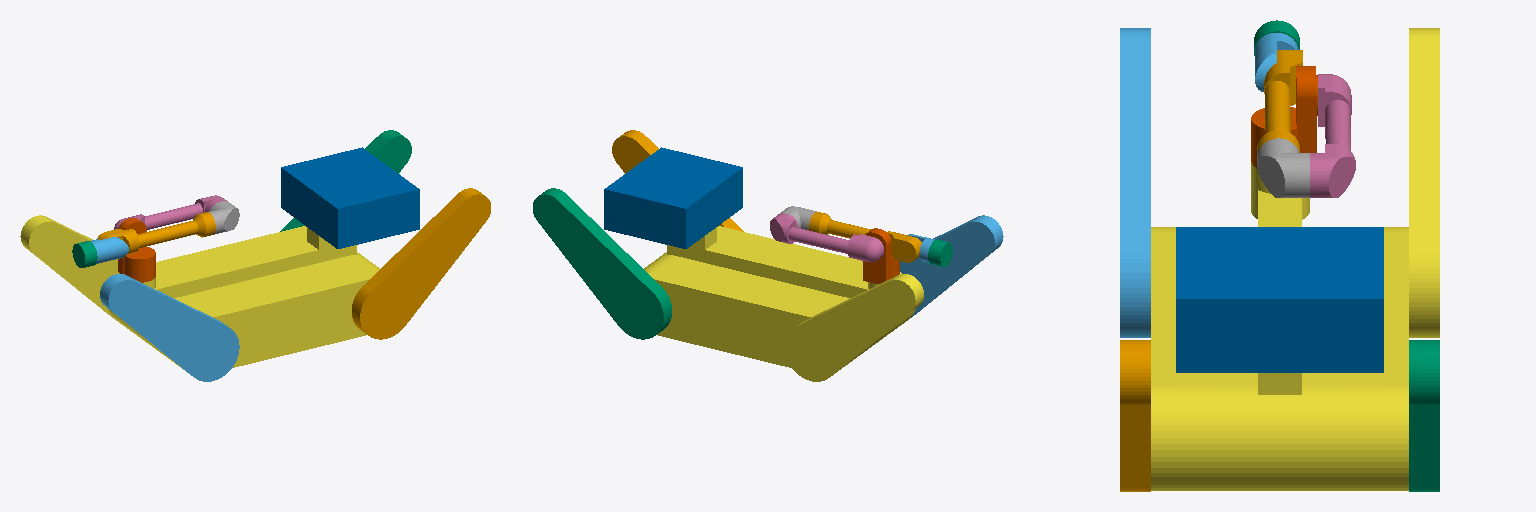
URDF robot description (rove_full_low_res):
<?xml version='1.0' encoding='utf-8'?>
<robot name="rove_full_low_res">
    <link name="FlipperBL">
        <inertial>
            <origin xyz="0.12159582122141516 0.10168343253448005 0.025000000000000005" rpy="0.0 -0.0 0.0" />
            <mass value="29.29052518083931" />
            <inertia ixx="0.2910866181633136" iyy="0.3900292627096684" izz="0.6689114953809776" ixy="-0.27678423112892325" iyz="2.7755575615628914e-17" ixz="0.0" />
        </inertial>
        <visual name="FlipperBL_visual">
            <origin xyz="-0.2968589956864575 -0.06317629882966745 0.0" rpy="-1.5707963267948966 -0.0 -0.08726646259971632" />
            <geometry>
                <mesh filename="package://rove_description/meshes/FlipperBL.stl" scale="0.001 0.001 0.001" />
            </geometry>
        </visual>
        <collision name="FlipperBL_collision">
            <origin xyz="-0.2968589956864575 -0.06317629882966745 0.0" rpy="-1.5707963267948966 -0.0 -0.08726646259971632" />
            <geometry>
                <mesh filename="package://rove_description/meshes/FlipperBL.stl" scale="0.001 0.001 0.001" />
            </geometry>
        </collision>
    </link>
    <link name="FlipperFL">
        <inertial>
            <origin xyz="-0.12125352408730372 0.10209137142127311 0.025" rpy="0.0 -0.0 0.0" />
            <mass value="29.2905251808393" />
            <inertia ixx="0.29237999451611363" iyy="0.38873588635686396" izz="0.6689114953809892" ixy="0.27701228827613233" iyz="2.7755575615628914e-17" ixz="0.0" />
        </inertial>
        <visual name="FlipperFL_visual">
            <origin xyz="0.3063762811858175 -0.0623436438703893 -8.881784197001253e-18" rpy="-1.5707963267948966 -0.0 0.08726646259971638" />
            <geometry>
                <mesh filename="package://rove_description/meshes/FlipperFL.stl" scale="0.001 0.001 0.001" />
            </geometry>
        </visual>
        <collision name="FlipperFL_collision">
            <origin xyz="0.3063762811858175 -0.0623436438703893 -8.881784197001253e-18" rpy="-1.5707963267948966 -0.0 0.08726646259971638" />
            <geometry>
                <mesh filename="package://rove_description/meshes/FlipperFL.stl" scale="0.001 0.001 0.001" />
            </geometry>
        </collision>
    </link>
    <link name="FlipperBR">
        <inertial>
            <origin xyz="0.1215958212214153 -0.10168343253448012 0.02500000000000007" rpy="0.0 -0.0 0.0" />
            <mass value="29.29052518083931" />
            <inertia ixx="0.2910866181633107" iyy="0.3900292627096622" izz="0.6689114953809678" ixy="0.2767842311289228" iyz="8.881784197001252e-16" ixz="0.0" />
        </inertial>
        <visual name="FlipperBR_visual">
            <origin xyz="-0.2968589956864576 0.06317629882966747 -0.418" rpy="1.5707963267948966 -0.0 0.08726646259971636" />
            <geometry>
                <mesh filename="package://rove_description/meshes/FlipperBR.stl" scale="0.001 0.001 0.001" />
            </geometry>
        </visual>
        <collision name="FlipperBR_collision">
            <origin xyz="-0.2968589956864576 0.06317629882966747 -0.418" rpy="1.5707963267948966 -0.0 0.08726646259971636" />
            <geometry>
                <mesh filename="package://rove_description/meshes/FlipperBR.stl" scale="0.001 0.001 0.001" />
            </geometry>
        </collision>
    </link>
    <link name="FlipperFR">
        <inertial>
            <origin xyz="-0.12125352408730372 -0.10209137142127314 0.02500000000000007" rpy="0.0 -0.0 0.0" />
            <mass value="29.2905251808393" />
            <inertia ixx="0.29237999451608143" iyy="0.3887358863568302" izz="0.6689114953809954" ixy="-0.27701228827613233" iyz="0.0" ixz="8.881784197001252e-16" />
        </inertial>
        <visual name="FlipperFR_visual">
            <origin xyz="0.30637628118581733 0.06234364387038916 -0.418" rpy="1.5707963267948966 -0.0 -0.08726646259971639" />
            <geometry>
                <mesh filename="package://rove_description/meshes/FlipperFR.stl" scale="0.001 0.001 0.001" />
            </geometry>
        </visual>
        <collision name="FlipperFR_collision">
            <origin xyz="0.30637628118581733 0.06234364387038916 -0.418" rpy="1.5707963267948966 -0.0 -0.08726646259971639" />
            <geometry>
                <mesh filename="package://rove_description/meshes/FlipperFR.stl" scale="0.001 0.001 0.001" />
            </geometry>
        </collision>
    </link>
    <link name="TopBox">
        <inertial>
            <origin xyz="3.552713678800501e-17 -4.146828338491559e-09 0.06581575918302096" rpy="0.0 -0.0 0.0" />
            <mass value="96.40121826749832" />
            <inertia ixx="0.7585335063712897" iyy="1.0461368392347783" izz="1.5262819900577664" ixy="8.881784197001252e-16" iyz="1.7763568394002505e-15" ixz="-8.881784197001252e-16" />
        </inertial>
        <visual name="TopBox_visual">
            <origin xyz="-0.209 0.31570997 -0.27868861" rpy="0.0 -0.0 -1.5707963267948966" />
            <geometry>
                <mesh filename="package://rove_description/meshes/TopBox.stl" scale="0.001 0.001 0.001" />
            </geometry>
        </visual>
        <collision name="TopBox_collision">
            <origin xyz="-0.209 0.31570997 -0.27868861" rpy="0.0 -0.0 -1.5707963267948966" />
            <geometry>
                <mesh filename="package://rove_description/meshes/TopBox.stl" scale="0.001 0.001 0.001" />
            </geometry>
        </collision>
    </link>
    <link name="ArmBase">
        <inertial>
            <origin xyz="-0.00013606355325087804 0.01657163505224524 0.05804777995982253" rpy="0.0 -0.0 0.0" />
            <mass value="6.7545205940294775" />
            <inertia ixx="0.017104166308066437" iyy="0.01517862348614507" izz="0.009498114793283552" ixy="1.5810979551389437e-05" iyz="-0.0034950167374411256" ixz="2.8696278390971663e-05" />
        </inertial>
        <visual name="ArmBase_visual">
            <origin xyz="0.40171020285820613 -0.20664929379471153 -0.259" rpy="6.173301504223946e-17 6.072753714006385e-17 0.008210442388665778" />
            <geometry>
                <mesh filename="package://rove_description/meshes/ArmBase.stl" scale="0.001 0.001 0.001" />
            </geometry>
        </visual>
        <collision name="ArmBase_collision">
            <origin xyz="0.40171020285820613 -0.20664929379471153 -0.259" rpy="6.173301504223946e-17 6.072753714006385e-17 0.008210442388665778" />
            <geometry>
                <mesh filename="package://rove_description/meshes/ArmBase.stl" scale="0.001 0.001 0.001" />
            </geometry>
        </collision>
    </link>
    <link name="ArmSectionA">
        <inertial>
            <origin xyz="0.1579891032905889 -3.552713678800501e-16 0.025077496294956952" rpy="0.0 -0.0 0.0" />
            <mass value="6.396156094543044" />
            <inertia ixx="0.0032596370720983092" iyy="0.09582761322448707" izz="0.09588274002141617" ixy="-1.1102230246251565e-15" iyz="-5.551115123125783e-16" ixz="0.0023194508655053903" />
        </inertial>
        <visual name="ArmSectionA_visual">
            <origin xyz="-0.3927698912750465 -0.378 -0.2732339921582292" rpy="1.5707963267948966 0.00821044238866564 3.141592653589793" />
            <geometry>
                <mesh filename="package://rove_description/meshes/ArmSectionA.stl" scale="0.001 0.001 0.001" />
            </geometry>
        </visual>
        <collision name="ArmSectionA_collision">
            <origin xyz="-0.3927698912750465 -0.378 -0.2732339921582292" rpy="1.5707963267948966 0.00821044238866564 3.141592653589793" />
            <geometry>
                <mesh filename="package://rove_description/meshes/ArmSectionA.stl" scale="0.001 0.001 0.001" />
            </geometry>
        </collision>
    </link>
    <link name="ArmSectionB">
        <inertial>
            <origin xyz="-0.017849007491051998 0.0 0.03779063134551585" rpy="0.0 -0.0 0.0" />
            <mass value="3.2157885894035196" />
            <inertia ixx="0.0024413319966500877" iyy="0.003866343551161111" izz="0.0035609359073050535" ixy="2.4980018054066027e-16" iyz="5.551115123125784e-17" ixz="0.0008295182515410814" />
        </inertial>
        <visual name="ArmSectionB_visual">
            <origin xyz="0.7020700410350835 -0.378 0.2492441619583238" rpy="-1.5707963267948966 0.00821044238866591 -1.1102604465006027e-16" />
            <geometry>
                <mesh filename="package://rove_description/meshes/ArmSectionB.stl" scale="0.001 0.001 0.001" />
            </geometry>
        </visual>
        <collision name="ArmSectionB_collision">
            <origin xyz="0.7020700410350835 -0.378 0.2492441619583238" rpy="-1.5707963267948966 0.00821044238866591 -1.1102604465006027e-16" />
            <geometry>
                <mesh filename="package://rove_description/meshes/ArmSectionB.stl" scale="0.001 0.001 0.001" />
            </geometry>
        </collision>
    </link>
    <link name="ArmSectionC">
        <inertial>
            <origin xyz="7.105427357601002e-17 0.004949483193104314 0.1865782854939781" rpy="3.038581678643135e-64 -0.0 0.0" />
            <mass value="5.889654425673101" />
            <inertia ixx="0.08542983391771675" iyy="0.08550696486907808" izz="0.0028521934194545304" ixy="-2.2204460492503136e-16" iyz="-0.0044164929169711615" ixz="6.661338147750941e-16" />
        </inertial>
        <visual name="ArmSectionC_visual">
            <origin xyz="0.37799999999999956 0.21129573878964278 -0.7659377974765399" rpy="-1.5707963267948608 1.562585884406231 1.5707963267949099" />
            <geometry>
                <mesh filename="package://rove_description/meshes/ArmSectionC.stl" scale="0.001 0.001 0.001" />
            </geometry>
        </visual>
        <collision name="ArmSectionC_collision">
            <origin xyz="0.37799999999999956 0.21129573878964278 -0.7659377974765399" rpy="-1.5707963267948608 1.562585884406231 1.5707963267949099" />
            <geometry>
                <mesh filename="package://rove_description/meshes/ArmSectionC.stl" scale="0.001 0.001 0.001" />
            </geometry>
        </collision>
    </link>
    <link name="ArmSectionD">
        <inertial>
            <origin xyz="-0.029632059801461993 2.1316282072803005e-16 -0.008621445623248434" rpy="0.0 -0.0 0.0" />
            <mass value="2.0771391836268105" />
            <inertia ixx="0.0011423755129120199" iyy="0.00247668255940503" izz="0.002561926425206252" ixy="-1.054711873393899e-15" iyz="-1.6653345369377353e-16" ixz="0.00040929731281363923" />
        </inertial>
        <visual name="ArmSectionD_visual">
            <origin xyz="1.0982797974765388 -0.3779999999999994 0.21402447878964267" rpy="-1.5707963267948966 -0.008210442388665678 1.366659615041774e-16" />
            <geometry>
                <mesh filename="package://rove_description/meshes/ArmSectionD.stl" scale="0.001 0.001 0.001" />
            </geometry>
        </visual>
        <collision name="ArmSectionD_collision">
            <origin xyz="1.0982797974765388 -0.3779999999999994 0.21402447878964267" rpy="-1.5707963267948966 -0.008210442388665678 1.366659615041774e-16" />
            <geometry>
                <mesh filename="package://rove_description/meshes/ArmSectionD.stl" scale="0.001 0.001 0.001" />
            </geometry>
        </collision>
    </link>
    <link name="ArmSectionE">
        <inertial>
            <origin xyz="1.4210854715202004e-16 -0.00017118928473184526 0.02084929946077736" rpy="0.0 -0.0 0.0" />
            <mass value="1.4461659101100297" />
            <inertia ixx="0.0007179779890870153" iyy="0.0007179981350707856" izz="0.0010168152596525264" ixy="1.1129985821867197e-13" iyz="-2.453641322369694e-06" ixz="1.898481372109018e-14" />
        </inertial>
        <visual name="ArmSectionE_visual">
            <origin xyz="0.37800000000004674 0.21462174950553956 -1.1710242404262494" rpy="-1.5707963267952678 1.562585884406228 1.5707963267954739" />
            <geometry>
                <mesh filename="package://rove_description/meshes/ArmSectionE.stl" scale="0.001 0.001 0.001" />
            </geometry>
        </visual>
        <collision name="ArmSectionE_collision">
            <origin xyz="0.37800000000004674 0.21462174950553956 -1.1710242404262494" rpy="-1.5707963267952678 1.562585884406228 1.5707963267954739" />
            <geometry>
                <mesh filename="package://rove_description/meshes/ArmSectionE.stl" scale="0.001 0.001 0.001" />
            </geometry>
        </collision>
    </link>
    <link name="RoveCore">
        <inertial>
            <origin xyz="-0.0074736754331069105 0.20900969545201392 0.0955665967564817" rpy="0.0 0.0 0.0" />
            <mass value="457.3497231349485" />
            <inertia ixx="7.782169575736962" iyy="22.605491420218968" izz="27.42576921205052" ixy="0.001752398827628343" iyz="-0.000529541103382769" ixz="0.10195558201393629" />
        </inertial>
        <visual name="RoveCore_visual">
            <origin xyz="0.0 0.0 0.0" rpy="0.0 0.0 0.0" />
            <geometry>
                <mesh filename="package://rove_description/meshes/RoveCore.stl" scale="0.001 0.001 0.001" />
            </geometry>
        </visual>
        <collision name="RoveCore_collision">
            <origin xyz="0.0 0.0 0.0" rpy="0.0 0.0 0.0" />
            <geometry>
                <mesh filename="package://rove_description/meshes/RoveCore.stl" scale="0.001 0.001 0.001" />
            </geometry>
        </collision>
    </link>
    <joint name="RoveCore_TopBox" type="fixed">
        <origin xyz="0.31570997 0.209 0.27868861" rpy="0.0 -0.0 1.5707963267948966" />
        <parent link="RoveCore" />
        <child link="TopBox" />
    </joint>
    <joint name="RoveCore_FlipperBLJoint" type="continuous">
        <origin xyz="0.29022317999999997 0.0 0.08880886" rpy="1.5707963267948966 -0.0 0.0" />
        <parent link="RoveCore" />
        <child link="FlipperBL" />
        <axis xyz="0.0 0.0 1.0" />
    </joint>
    <joint name="RoveCore_FlipperBRJoint" type="continuous">
        <origin xyz="0.29022317999999997 0.418 0.08880886" rpy="-1.5707963267948966 -0.0 0.0" />
        <parent link="RoveCore" />
        <child link="FlipperBR" />
        <axis xyz="0.0 0.0 1.0" />
    </joint>
    <joint name="RoveCore_FlipperFRJoint" type="continuous">
        <origin xyz="-0.29977682 0.418 0.08880886" rpy="-1.5707963267948966 -0.0 0.0" />
        <parent link="RoveCore" />
        <child link="FlipperFR" />
        <axis xyz="0.0 0.0 1.0" />
    </joint>
    <joint name="RoveCore_FlipperFLJoint" type="continuous">
        <origin xyz="-0.29977682 0.0 0.08880886" rpy="1.5707963267948966 -0.0 0.0" />
        <parent link="RoveCore" />
        <child link="FlipperFL" />
        <axis xyz="0.0 0.0 1.0" />
    </joint>
    <joint name="RoveCore_Joint1" type="continuous">
        <origin xyz="-0.4 0.20994051 0.259" rpy="0.0 -0.0 0.0" />
        <parent link="RoveCore" />
        <child link="ArmBase" />
        <axis xyz="0.0 0.0 1.0" />
    </joint>
    <joint name="ArmSectionA_Joint3" type="continuous">
        <origin xyz="0.30511288000000003 0.0 -0.012495339999999971" rpy="3.141592653589793 1.7347234759768038e-18 1.232595164407831e-32" />
        <parent link="ArmSectionA" />
        <child link="ArmSectionB" />
        <axis xyz="0.008210000000000004 0.0 0.9999660000000002" />
    </joint>
    <joint name="ArmSectionB_Joint4" type="continuous">
        <origin xyz="-0.06723399999999999 0.0 0.050553720000000024" rpy="-1.5707963267948966 -4.276423536147513e-50 1.5707963267948966" />
        <parent link="ArmSectionB" />
        <child link="ArmSectionC" />
        <axis xyz="2.4651065123444822e-32 -0.00821 0.9999660000000002" />
    </joint>
    <joint name="ArmSectionC_Joint5" type="continuous">
        <origin xyz="0.0 -0.0027287399999999453 0.33234199999999986" rpy="-1.5707963267948966 1.5707963267948966 0" />
        <parent link="ArmSectionC" />
        <child link="ArmSectionD" />
        <axis xyz="0.008210000000000004 0.0 -0.9999660000000002" />
    </joint>
    <joint name="ArmSectionD_Joint6" type="continuous">
        <origin xyz="-0.07280100999999987 0.0 0.0002520900000000381" rpy="1.5707963267948966 -1.5407439555097883e-33 -1.5707963267948966" />
        <parent link="ArmSectionD" />
        <child link="ArmSectionE" />
        <axis xyz="-1.2649507874735366e-35 -0.008210000000000004 0.9999660000000002" />
    </joint>
    <joint name="ArmBase_Revolute-51" type="continuous">
        <origin xyz="-0.0004931100000000299 0.060057469999999995 0.11600000000000002" rpy="-1.5707963267948966 -1.232595164407831e-32 -3.7488939637457184e-33" />
        <parent link="ArmBase" />
        <child link="ArmSectionA" />
        <axis xyz="-0.00821 0.0 0.999966" />
    </joint>
</robot>

--- What the picture shows (computed from the rendered views, not written in the file) ---
The picture shows the robot from 3 angles, left to right: view 1: azimuth 30°, elevation 25°; view 2: azimuth 150°, elevation 25°; view 3: azimuth 270°, elevation 25°; orthographic projection.
Robot: rove_full_low_res — 12 links, 11 joints (10 continuous, 1 fixed); root link RoveCore; default pose: all joints at 0.
Links seen in each view (by area): view 1: RoveCore, TopBox, FlipperBL, FlipperFL, FlipperFR, ArmSectionC, FlipperBR, ArmBase, ArmSectionA, ArmSectionB, ArmSectionD, ArmSectionE; view 2: RoveCore, TopBox, FlipperBR, FlipperFR, FlipperFL, ArmSectionA, ArmSectionC, FlipperBL, ArmBase, ArmSectionE; view 3: RoveCore, TopBox, FlipperFL, FlipperFR, FlipperBL, FlipperBR, ArmSectionA, ArmSectionC, ArmSectionB, ArmBase, ArmSectionD, ArmSectionE.
Link boxes in pixels (<box>): RoveCore: <box>108,226,379,369</box>; TopBox: <box>281,147,419,248</box>; FlipperBL: <box>352,188,490,339</box>; FlipperFL: <box>100,274,239,381</box>; FlipperFR: <box>20,215,119,317</box>; ArmSectionC: <box>97,212,215,253</box>; FlipperBR: <box>280,130,411,231</box>; ArmBase: <box>118,218,155,282</box>; ArmSectionA: <box>114,195,227,229</box>; ArmSectionB: <box>209,201,239,234</box>; ArmSectionD: <box>91,237,128,263</box>; ArmSectionE: <box>72,241,97,267</box>; RoveCore: <box>644,226,915,369</box>; TopBox: <box>604,147,742,248</box>; FlipperBR: <box>533,188,671,339</box>; FlipperFR: <box>784,274,923,381</box>; FlipperFL: <box>900,215,1003,317</box>; ArmSectionA: <box>770,213,883,261</box>; ArmSectionC: <box>809,212,921,262</box>; FlipperBL: <box>612,130,743,231</box>; ArmBase: <box>863,228,899,283</box>; ArmSectionE: <box>928,239,952,266</box>; RoveCore: <box>1151,162,1408,490</box>; TopBox: <box>1176,227,1383,372</box>; FlipperFL: <box>1120,28,1150,337</box>; FlipperFR: <box>1409,28,1439,337</box>; FlipperBL: <box>1120,340,1150,491</box>; FlipperBR: <box>1409,340,1439,491</box>; ArmSectionA: <box>1310,74,1355,197</box>; ArmSectionC: <box>1257,50,1302,153</box>; ArmSectionB: <box>1257,138,1309,197</box>; ArmBase: <box>1251,66,1317,168</box>; ArmSectionD: <box>1255,33,1298,91</box>; ArmSectionE: <box>1254,20,1299,55</box>.
Bounding box of the posed robot: 1.3 × 0.518 × 0.4242 m (x, y, z).
12 mesh visuals loaded from 12 distinct referenced files (12 binary STL).